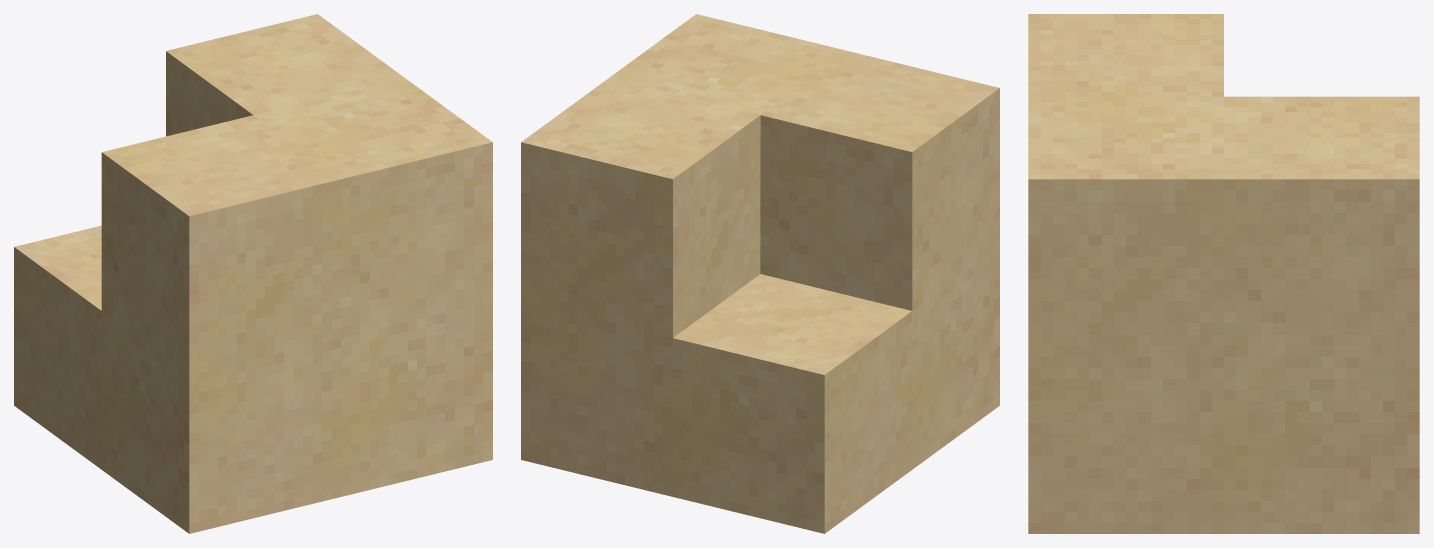
Rendered from block_smooth_sandstone_stairs_inner.gltf.
3 views of the same model, side by side, from view 1: azimuth 30°, elevation 25°; view 2: azimuth 150°, elevation 25°; view 3: azimuth 270°, elevation 25° (orthographic). The views are drawn at different scales.
Parts seen in each view (by area): view 1: cube (×3); view 2: cube (×3); view 3: cube (×3).
Boxes of the visible parts, x1=… form: cube (×3): x1=14, y1=14, x2=492, y2=533; cube (×3): x1=521, y1=14, x2=999, y2=533; cube (×3): x1=1028, y1=14, x2=1419, y2=533.
Bounding box in the file's own units: 1 × 1 × 1.
1 material, 1 textured.
